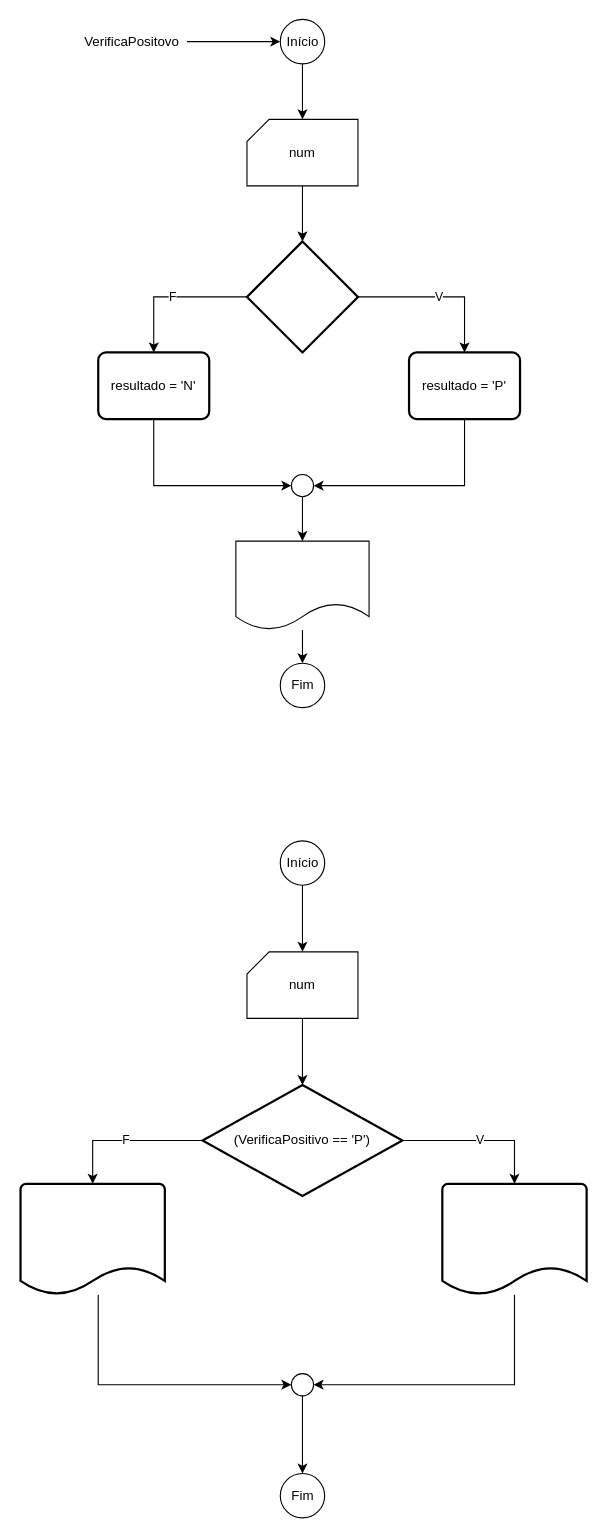
This 606x1537 diagram has some shape labels left out. Here are the shapes that lost their labels. From the top down, the centre of each, then its label:
pixel 302 296: (num >= 0)
pixel 302 585: Retorna resultado
pixel 92 1238: Escreva << "O número é NEGATIVO!" << endl
pixel 514 1238: Escreva << "O número é POSITIVO!" << endl
